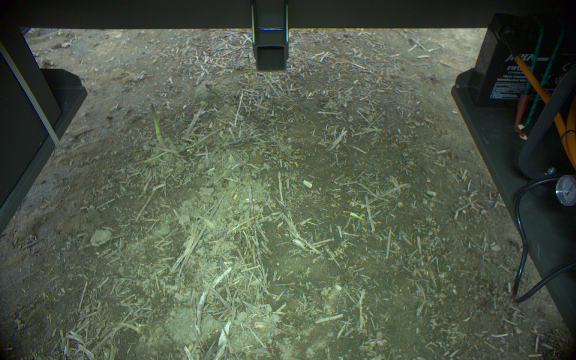aspa: (147, 103, 166, 149), (245, 51, 252, 82)
